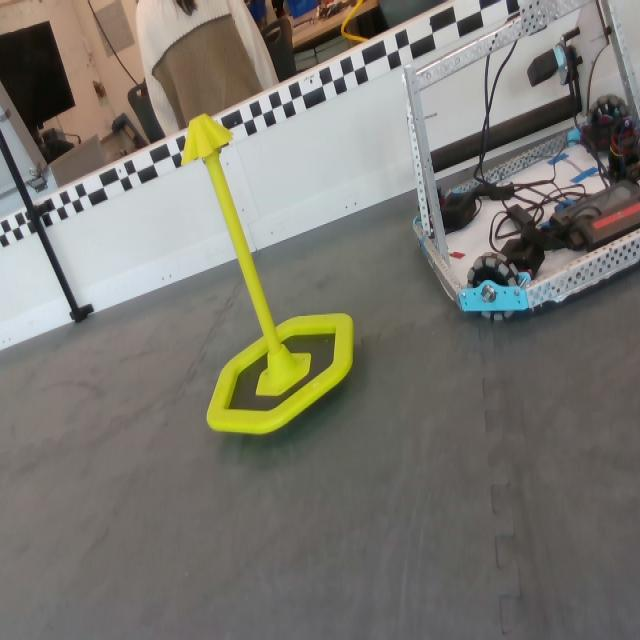Mobile-Goal: (176, 108, 356, 434)
Yellow-Stake-Head: (182, 113, 234, 166)
